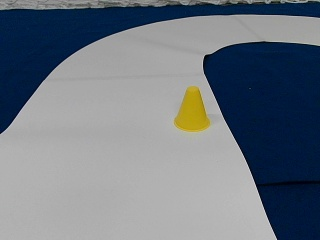cone: (174, 87, 210, 131)
